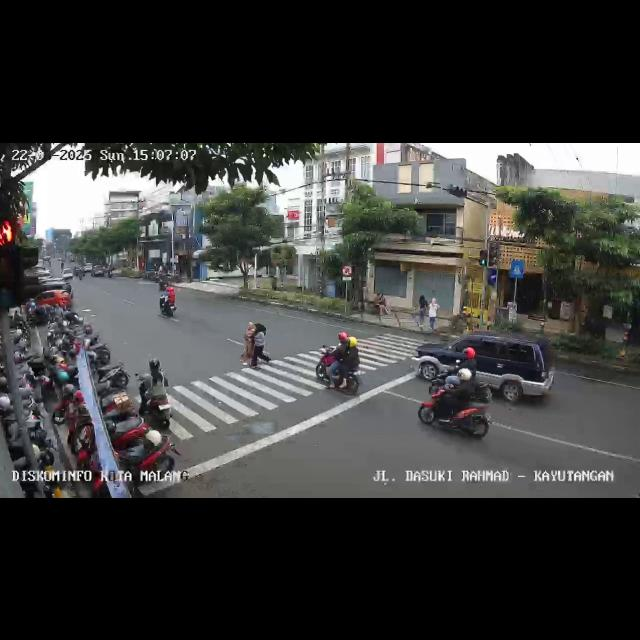car: (446, 334, 556, 406), (34, 278, 74, 310)
motorcycle: (424, 366, 494, 442), (315, 331, 363, 392), (146, 360, 172, 428), (160, 282, 178, 318)
person: (252, 322, 272, 368), (242, 321, 254, 367), (428, 297, 440, 331), (418, 293, 428, 331)
